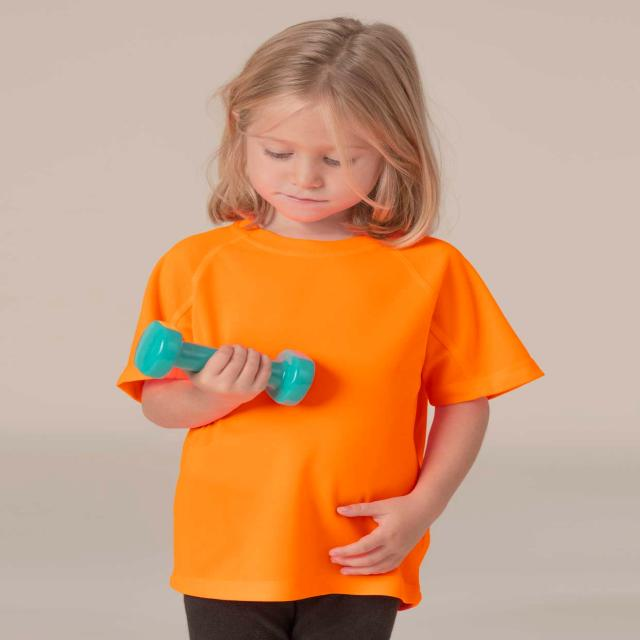child: (116, 13, 545, 640)
